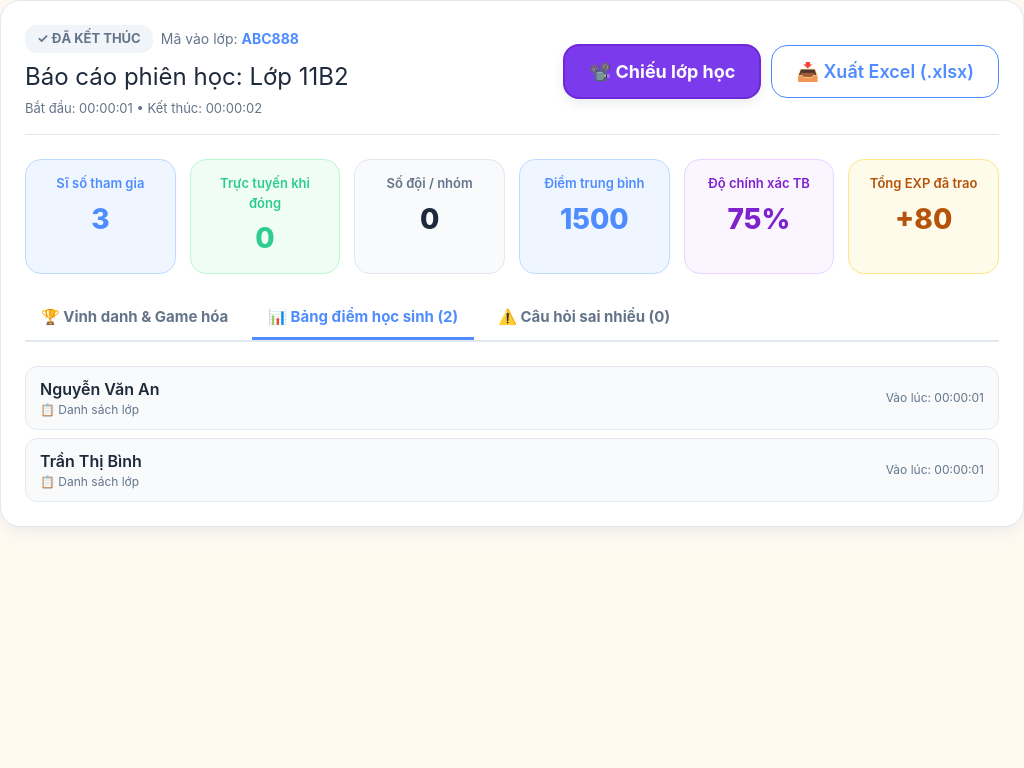
Test: SessionReportView Component (Task 3.4) › renders participants list when scoreboard is empty and shows empty difficult questions state
Expected: the element with test id "report-participant-p-1" is shown, [25,366,999,430]
Expected: the text "Nguyễn Văn An" is shown, [40,376,160,400]
Click the button with test id "tab-difficult-questions": (584, 319) [482,298,686,340]
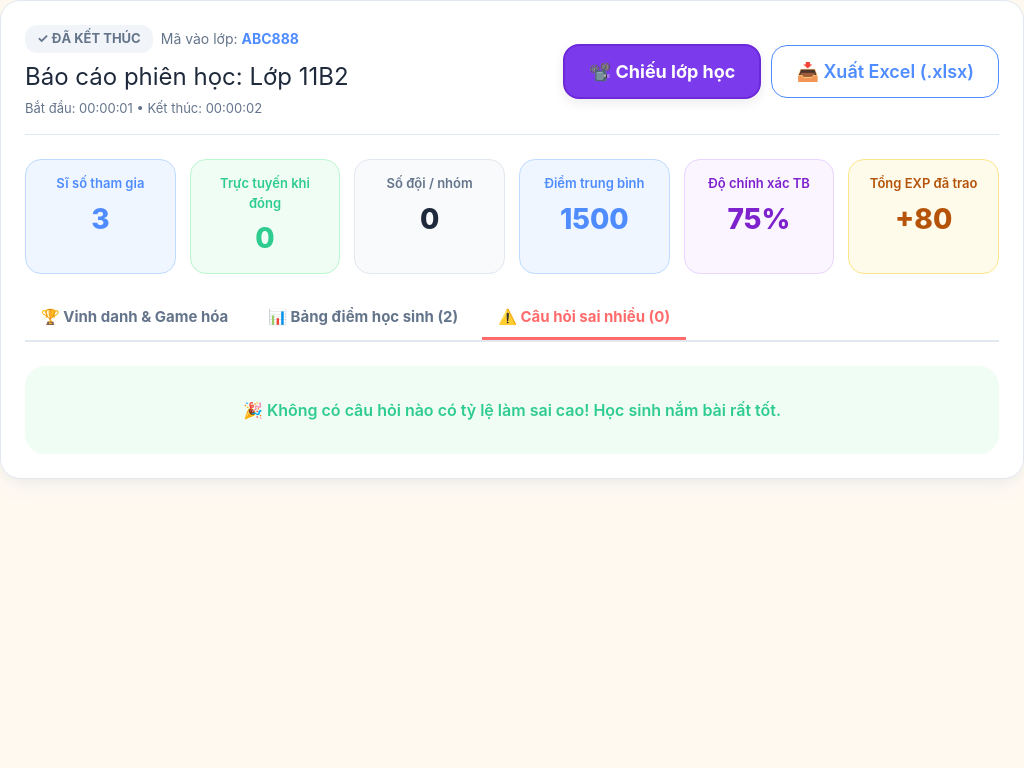
Expected: the text with test id "difficult-empty-state" is shown, [25,366,999,454]
